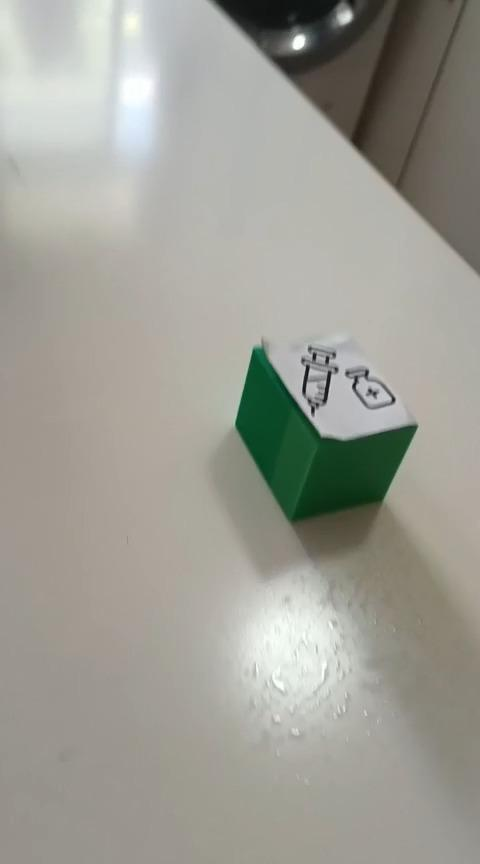antiseptic cream: (233, 328, 419, 523)
